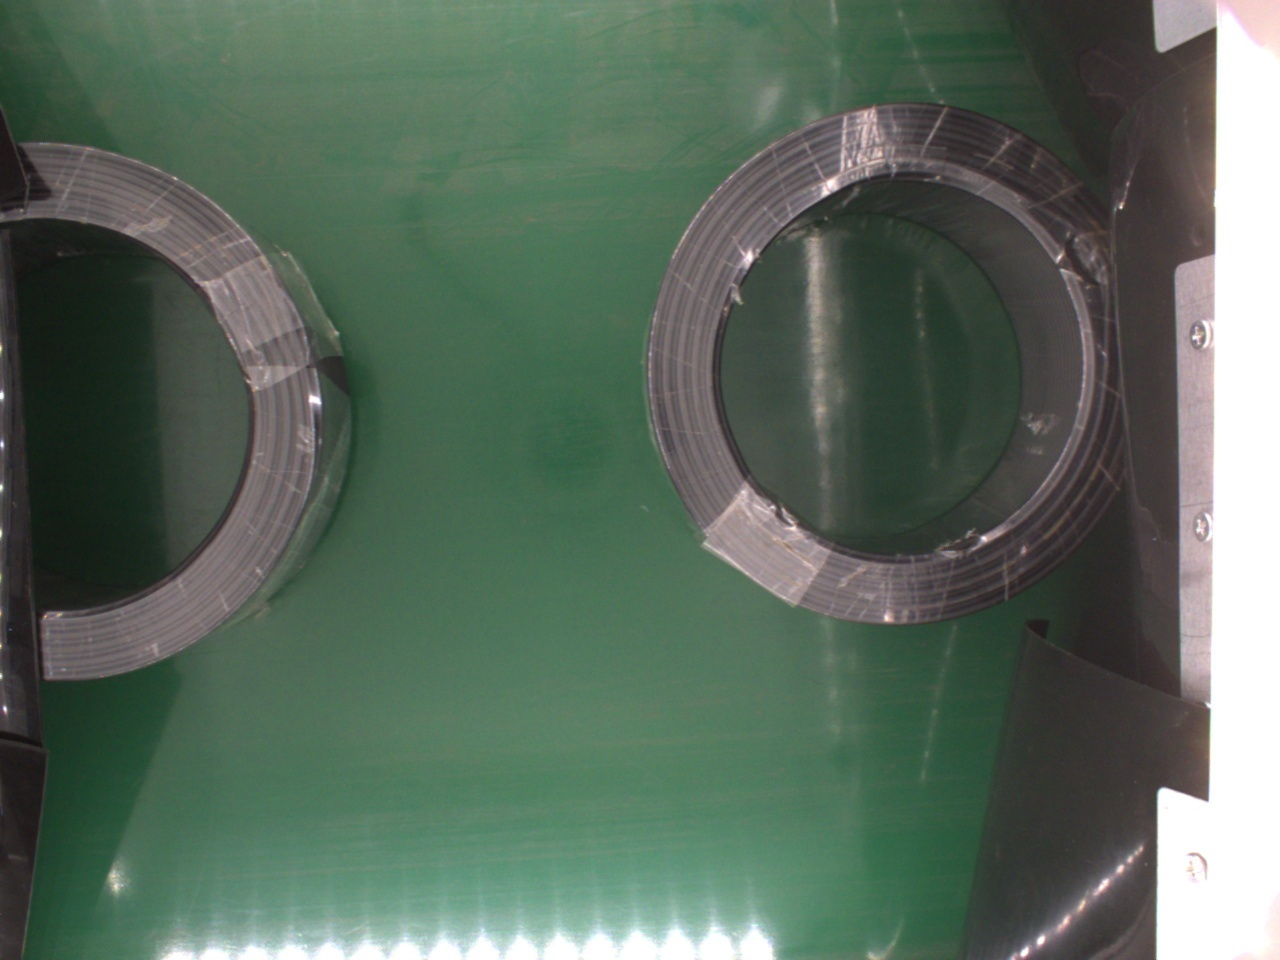black: (646, 95, 1128, 631), (18, 134, 359, 687)
